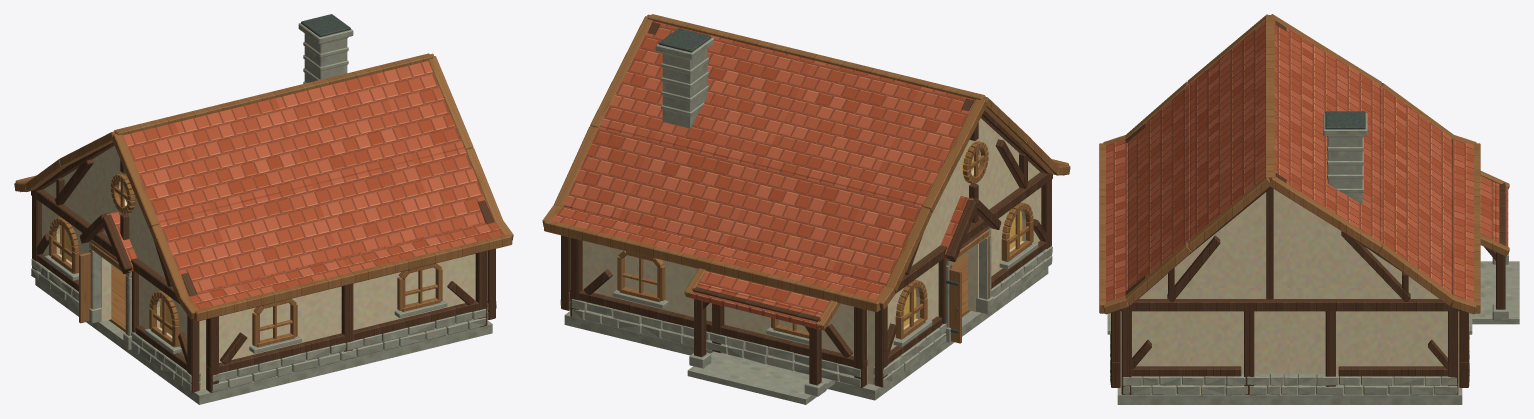
The model's file is HealingHouse_V2.fbx.
3 renders of one model, left to right at view 1: azimuth 30°, elevation 25°; view 2: azimuth 150°, elevation 25°; view 3: azimuth 270°, elevation 25°, orthographic. The views are drawn at different scales.
Parts seen in each view (by area): view 1: HH_V2_Roof_Main, HH_V2_Roof_Trim, HH_V2_Walls_CameraSide, HH_V2_Timber_Front, HH_V2_Timber_CameraSide, HH_V2_Stone_CameraSide, HH_V2_Foundation, HH_V2_Gable_Front, HH_V2_Windows_CameraSide, HH_V2_Walls_Front, HH_V2_Windows_Front, HH_V2_Chimney (+8 smaller); view 2: HH_V2_Roof_Main, HH_V2_Roof_Trim, HH_V2_Timber_Front, HH_V2_Walls_Far, HH_V2_Timber_Far, HH_V2_Stone_Far, HH_V2_Gable_Front, HH_V2_Roof_Porch, HH_V2_Walls_Front, HH_V2_PorchFloor, HH_V2_Chimney, HH_V2_Foundation (+12 smaller); view 3: HH_V2_Roof_Main, HH_V2_Walls_Rear, HH_V2_Gable_Rear, HH_V2_Timber_Rear, HH_V2_Roof_Trim, HH_V2_Stone_Rear, HH_V2_Foundation, HH_V2_Chimney, HH_V2_PorchFloor, HH_V2_Roof_Porch, HH_V2_Timber_Porch, HH_V2_ChimneyCap (+2 smaller).
Boxes of the visible parts, bbox=[...] form: HH_V2_Roof_Main: bbox=[24, 61, 504, 309]; HH_V2_Roof_Trim: bbox=[14, 53, 513, 321]; HH_V2_Walls_CameraSide: bbox=[206, 254, 475, 388]; HH_V2_Timber_Front: bbox=[31, 142, 199, 392]; HH_V2_Timber_CameraSide: bbox=[206, 251, 487, 392]; HH_V2_Stone_CameraSide: bbox=[212, 308, 486, 392]; HH_V2_Foundation: bbox=[35, 278, 492, 404]; HH_V2_Gable_Front: bbox=[44, 146, 165, 278]; HH_V2_Windows_CameraSide: bbox=[249, 263, 447, 353]; HH_V2_Walls_Front: bbox=[42, 203, 205, 389]; HH_V2_Windows_Front: bbox=[44, 217, 181, 354]; HH_V2_Chimney: bbox=[298, 23, 353, 83]; HH_V2_Roof_Main: bbox=[552, 21, 1059, 299]; HH_V2_Roof_Trim: bbox=[542, 14, 1070, 312]; HH_V2_Timber_Front: bbox=[875, 98, 1052, 387]; HH_V2_Walls_Far: bbox=[582, 241, 867, 383]; HH_V2_Timber_Far: bbox=[570, 237, 867, 387]; HH_V2_Stone_Far: bbox=[571, 299, 860, 386]; HH_V2_Gable_Front: bbox=[912, 118, 1039, 265]; HH_V2_Roof_Porch: bbox=[684, 268, 840, 330]; HH_V2_Walls_Front: bbox=[868, 187, 1041, 384]; HH_V2_PorchFloor: bbox=[687, 351, 834, 404]; HH_V2_Chimney: bbox=[656, 37, 713, 128]; HH_V2_Foundation: bbox=[564, 267, 1048, 400]; HH_V2_Roof_Main: bbox=[1106, 20, 1473, 301]; HH_V2_Walls_Rear: bbox=[1132, 311, 1447, 392]; HH_V2_Gable_Rear: bbox=[1139, 189, 1438, 298]; HH_V2_Timber_Rear: bbox=[1120, 173, 1459, 394]; HH_V2_Roof_Trim: bbox=[1099, 14, 1480, 314]; HH_V2_Stone_Rear: bbox=[1122, 373, 1457, 395]; HH_V2_Foundation: bbox=[1117, 387, 1462, 404]; HH_V2_Chimney: bbox=[1323, 113, 1367, 204]; HH_V2_PorchFloor: bbox=[1472, 261, 1519, 324]; HH_V2_Roof_Porch: bbox=[1480, 171, 1509, 256]; HH_V2_Timber_Porch: bbox=[1484, 183, 1508, 320]; HH_V2_ChimneyCap: bbox=[1325, 111, 1365, 129].
Bounding box in the file's own units: 10.98 × 10.35 × 7.38.
